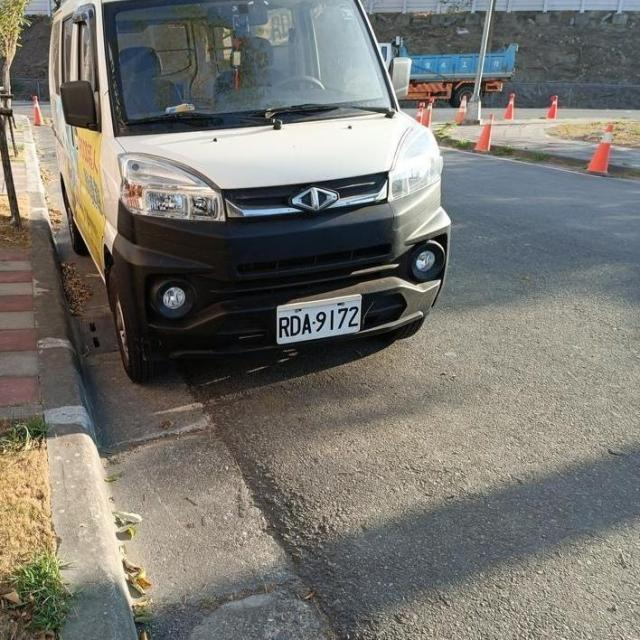W: (265, 285, 375, 350)
